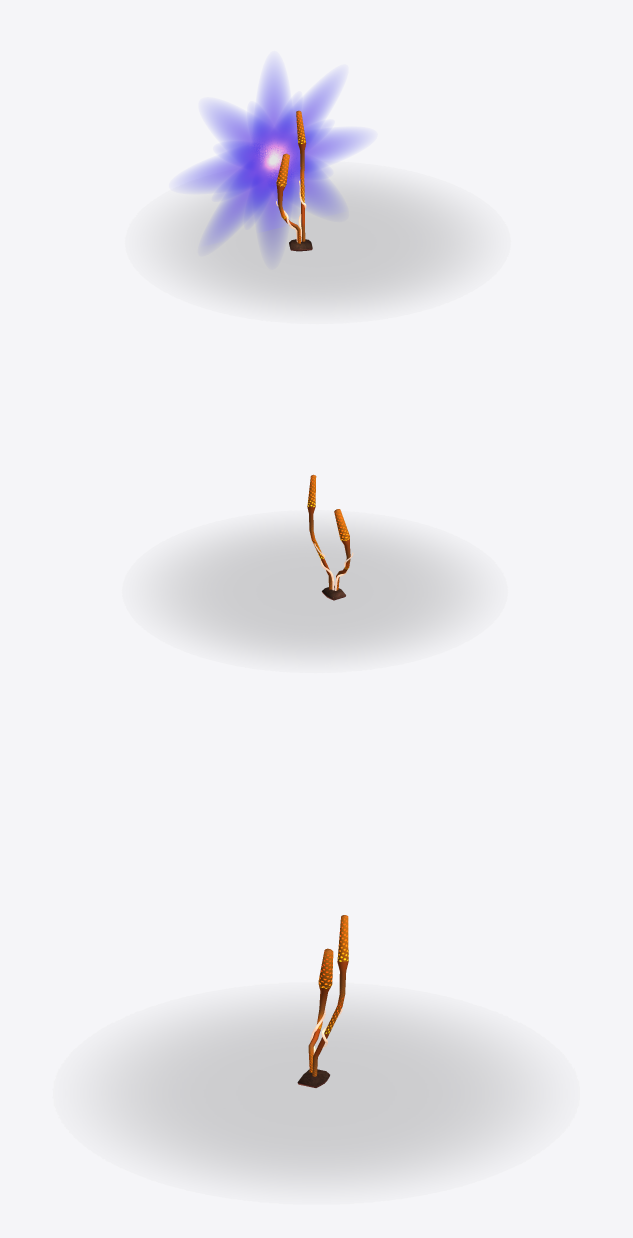
Rendered from kord.glb.
3 views of the same model, one above another, from view 1: azimuth 30°, elevation 25°; view 2: azimuth 150°, elevation 25°; view 3: azimuth 270°, elevation 25° (orthographic). The views are drawn at different scales.
Parts seen in each view (by area): view 1: SHADOW_K, fx.001, fx.004, kord; view 2: SHADOW_K, kord; view 3: SHADOW_K, kord.
Part boxes in pixels (box(x1,y1,x2,y2)): SHADOW_K: box(167, 179, 467, 305); fx.001: box(182, 64, 364, 249); fx.004: box(219, 100, 326, 221); kord: box(276, 110, 312, 251); SHADOW_K: box(165, 528, 464, 654); kord: box(307, 474, 353, 600); SHADOW_K: box(111, 1007, 521, 1179); kord: box(297, 915, 348, 1087).
Size of the model in its own units: 12.5 by 7.4 by 12.5.
Materials: 5 (5 with a texture image).
